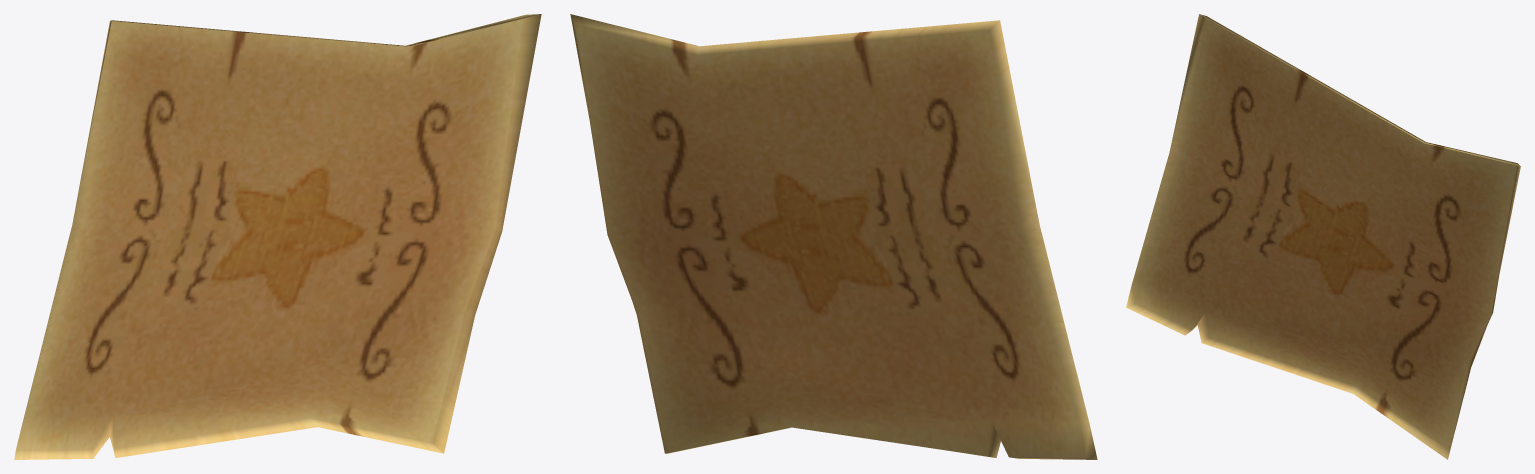
Rendered from PaperA.FBX.
The picture shows the model from 3 angles, left to right: view 1: azimuth 30°, elevation 25°; view 2: azimuth 150°, elevation 25°; view 3: azimuth 330°, elevation 25°; orthographic projection. The views are drawn at different scales.
Visible parts, largest first — view 1: pCube171__Paper00_AI; view 2: pCube171__Paper00_AI; view 3: pCube171__Paper00_AI.
Boxes of the visible parts, x1,y1,x2,y2 form: pCube171__Paper00_AI: [14, 14, 541, 459]; pCube171__Paper00_AI: [570, 14, 1097, 459]; pCube171__Paper00_AI: [1126, 14, 1520, 459].
Bounding box in the file's own units: 184 × 171 × 4.22.
